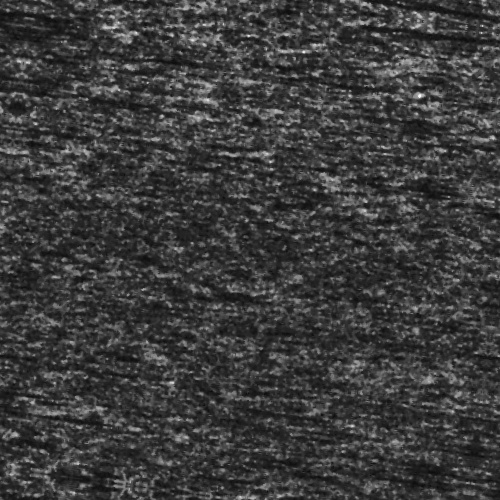object: (135, 436, 176, 441), (460, 4, 500, 9)
shadow: (2, 436, 155, 441), (336, 4, 487, 9)
